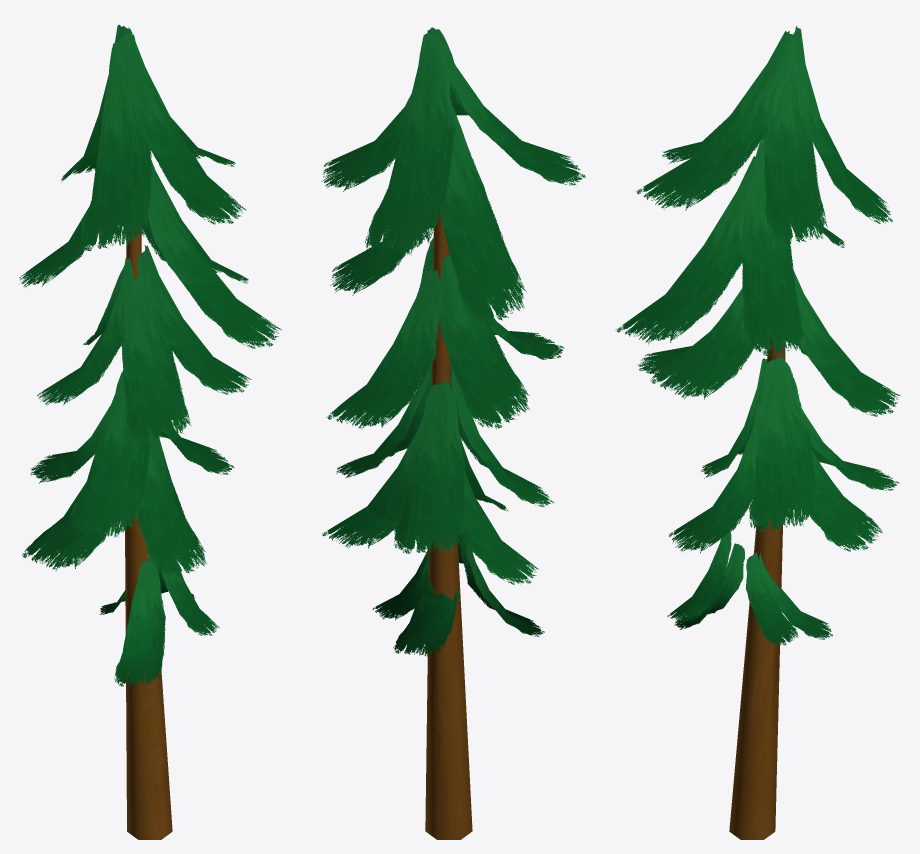
Rendered from SM_Tree2_01.fbx.
The picture shows the model from 3 angles, left to right: view 1: azimuth 30°, elevation 25°; view 2: azimuth 150°, elevation 25°; view 3: azimuth 270°, elevation 25°; orthographic projection. The views are drawn at different scales.
Visible parts, largest first — view 1: SM_TreeLeaves2_01, SM_Tree2_01; view 2: SM_TreeLeaves2_01, SM_Tree2_01; view 3: SM_TreeLeaves2_01, SM_Tree2_01.
Part boxes in pixels (x1,y1,x2,y2): SM_TreeLeaves2_01: (19, 24, 281, 686); SM_Tree2_01: (125, 224, 172, 839); SM_TreeLeaves2_01: (321, 27, 586, 656); SM_Tree2_01: (425, 211, 472, 839); SM_TreeLeaves2_01: (615, 26, 900, 645); SM_Tree2_01: (729, 332, 785, 839).
Size of the model in its own units: 274 by 1006 by 326.
